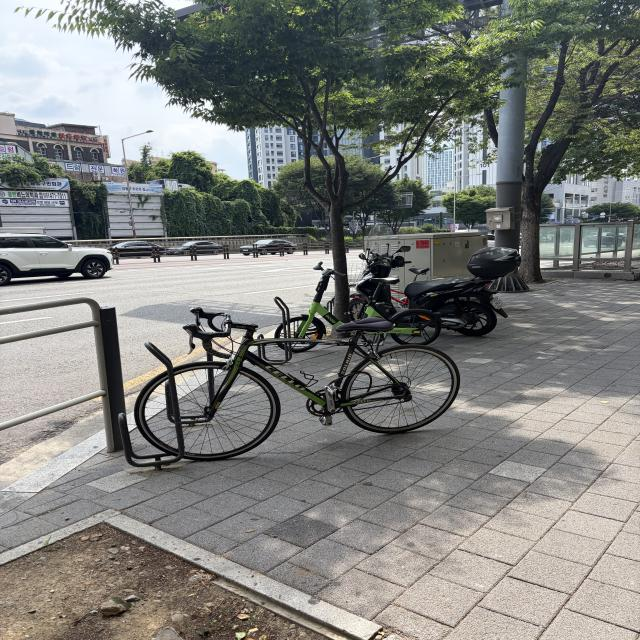bicycle: (93, 296, 487, 484)
